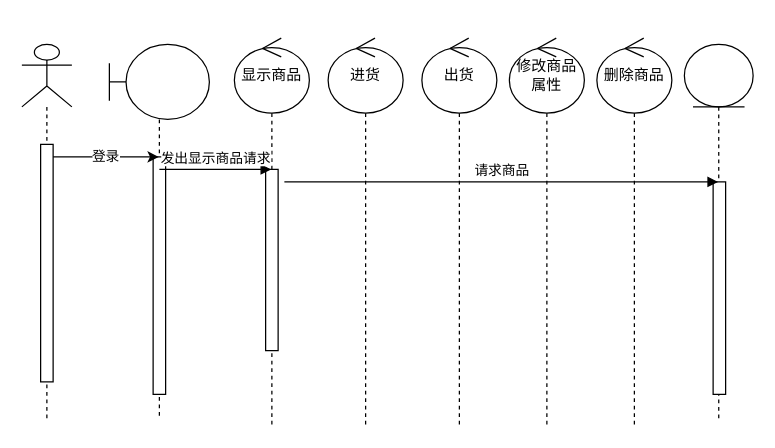
Image size: 775x448. Some labels were removed from this diagram. The shapes that lost their labels are listed below. From the top down, each one's box as (x1, y1, x2, y2) in pixels, then its label:
(21, 43, 72, 419): 管理员
(108, 43, 209, 419): 库存管理 GUI
(683, 43, 753, 419): 库存清单
